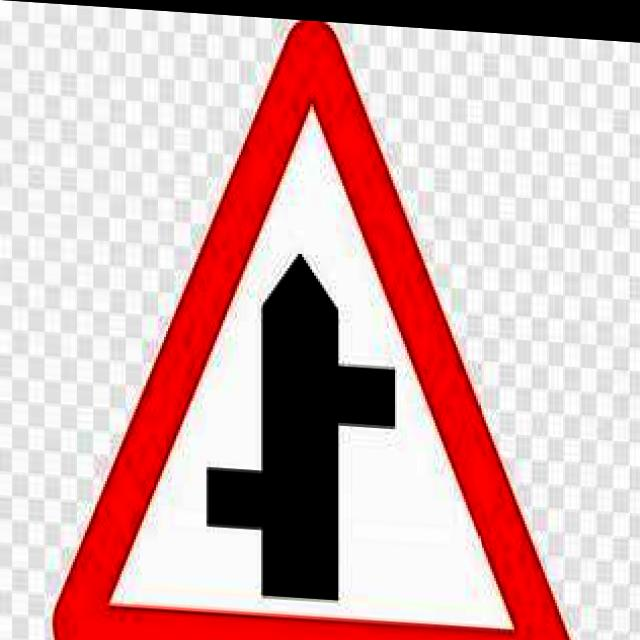STAGGERED_INTERSECTION: (41, 2, 586, 640)
